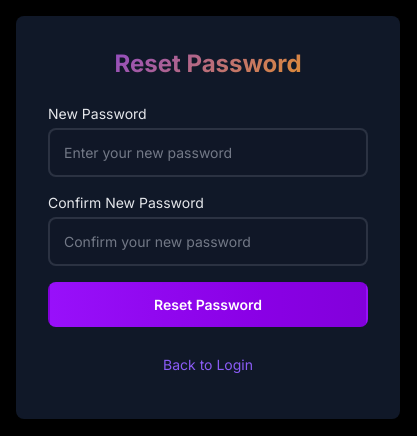
ResetPasswordClient › shows loading state during form submission
Type "newpassword123" into the password field labelled "New Password" at (208, 152), box [48,128,368,176]
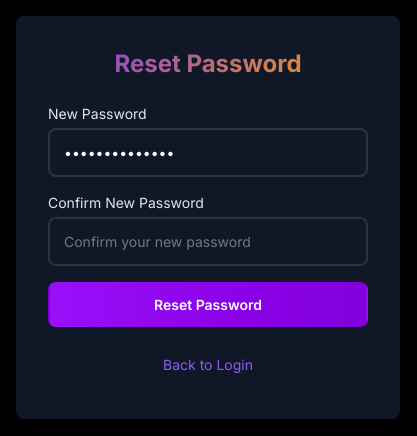
Type "newpassword123" into the password field labelled "Confirm New Password" at (208, 241), box [48,216,368,266]
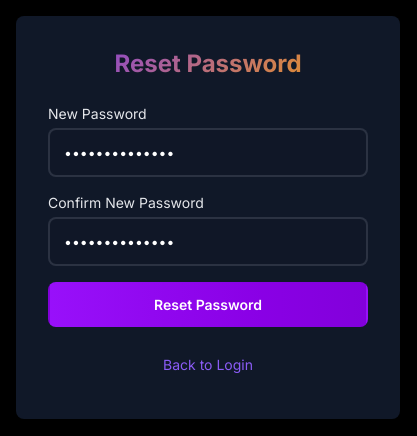
Click the button "Reset Password" at (208, 304), box [48,282,368,326]
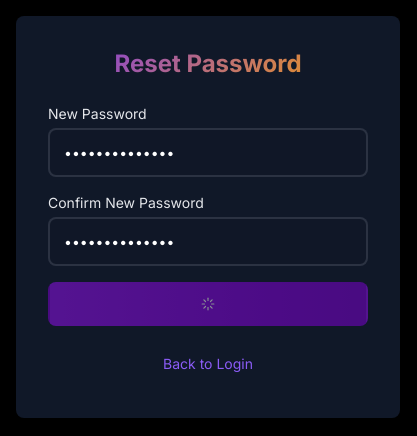
Check: the button is disabled, box [48,282,368,326]
Check: the icon is shown, box [201,297,215,311]
